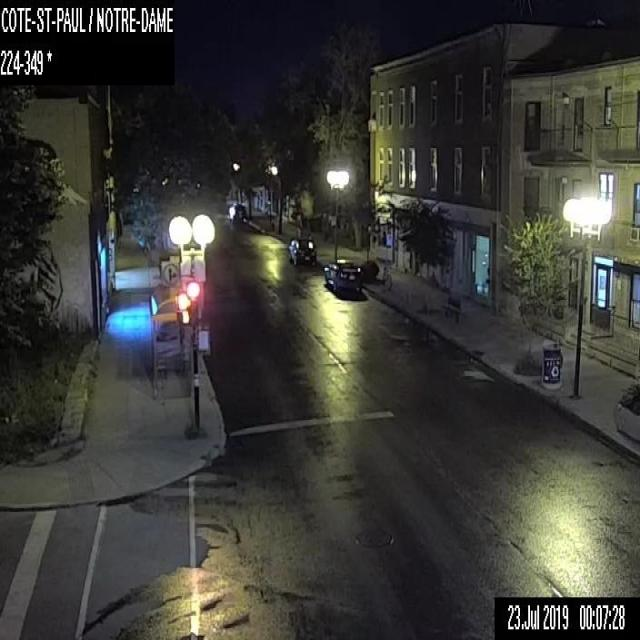vehicle: (323, 258, 362, 292), (288, 236, 316, 265), (228, 202, 246, 223)
